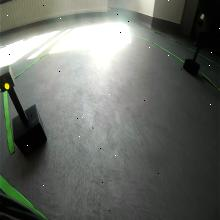green: (0, 66, 16, 93)
